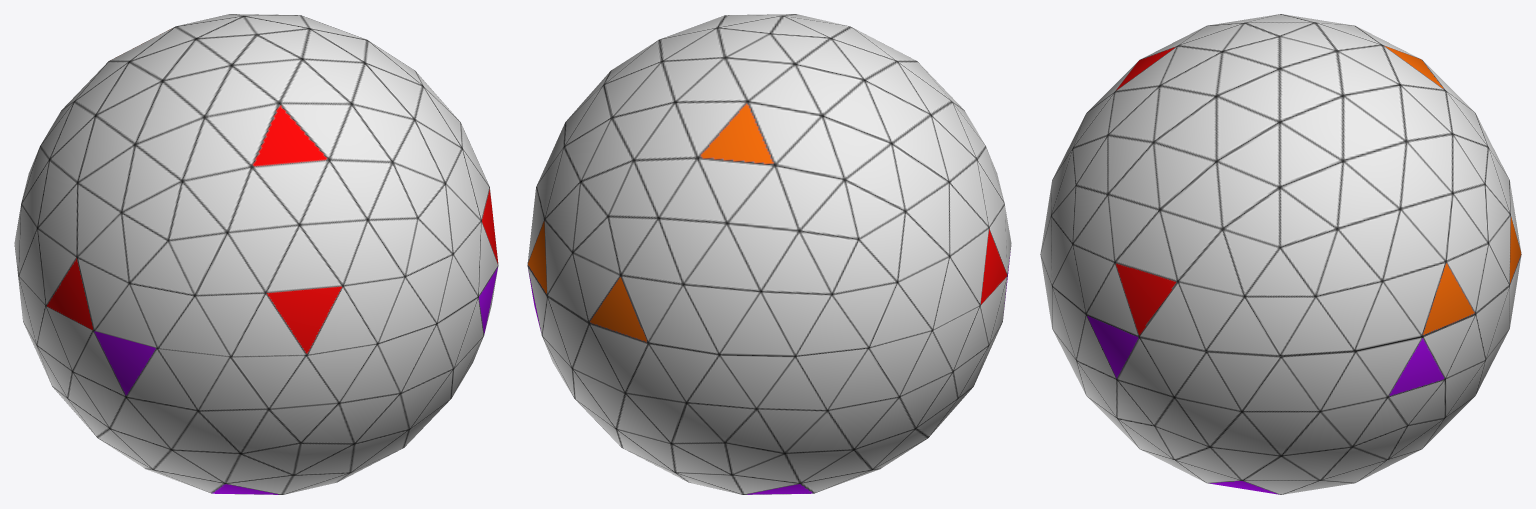
The model's file is KulaLoPoly1.obj.
The picture shows the model from 3 angles, left to right: view 1: azimuth 30°, elevation 25°; view 2: azimuth 150°, elevation 25°; view 3: azimuth 270°, elevation 25°; orthographic projection.
Visible parts, largest first — view 1: Icosphere; view 2: Icosphere; view 3: Icosphere.
Part boxes in pixels (box(x1,y1,x2,y2)): Icosphere: box(14, 14, 498, 494); Icosphere: box(527, 14, 1011, 494); Icosphere: box(1040, 14, 1521, 494).
Bounding box in the file's own units: 2 × 2 × 2.
Materials: 1 (1 with a texture image).
